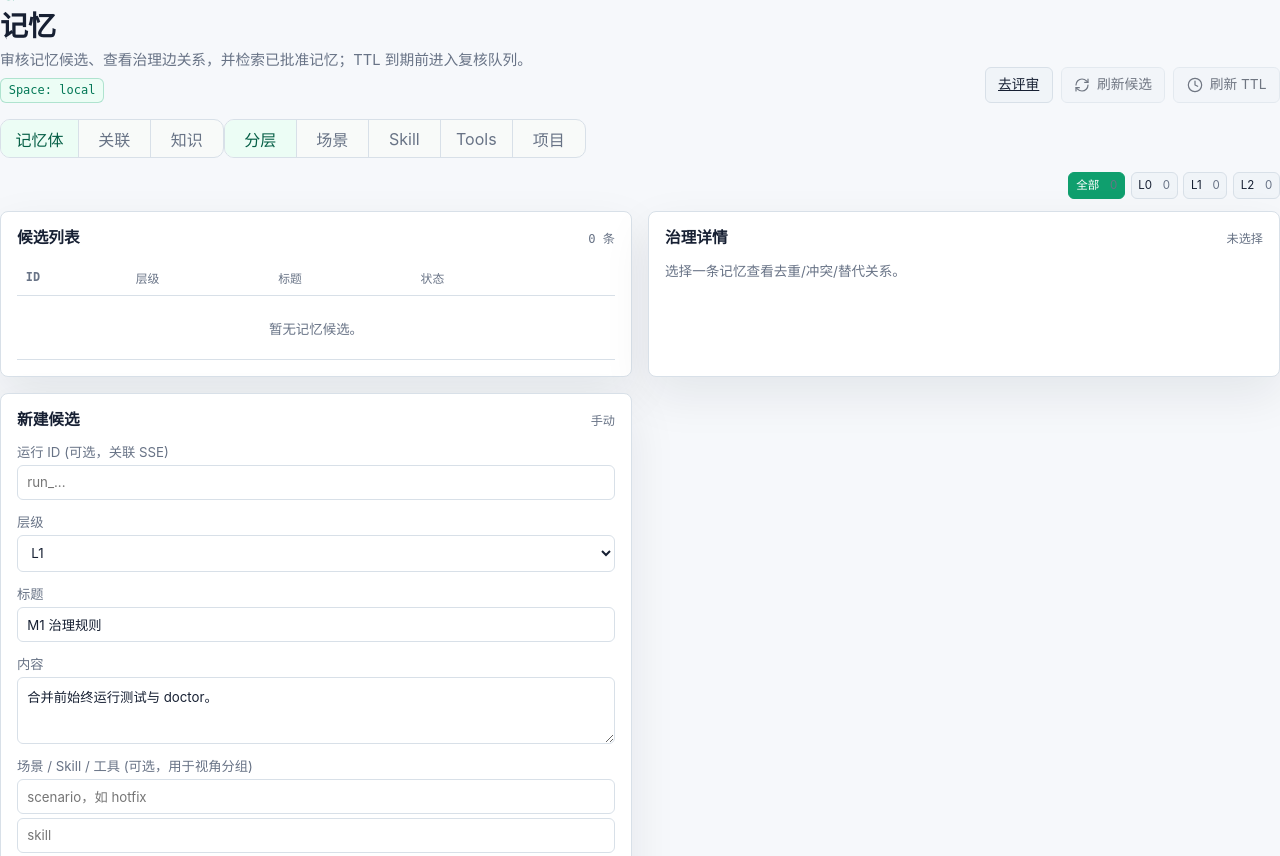
Test: MemoryPage › disables candidate submit until title and body are filled
Clear the field with test id "memory-candidate-title": (316, 624) [17,607,615,642]
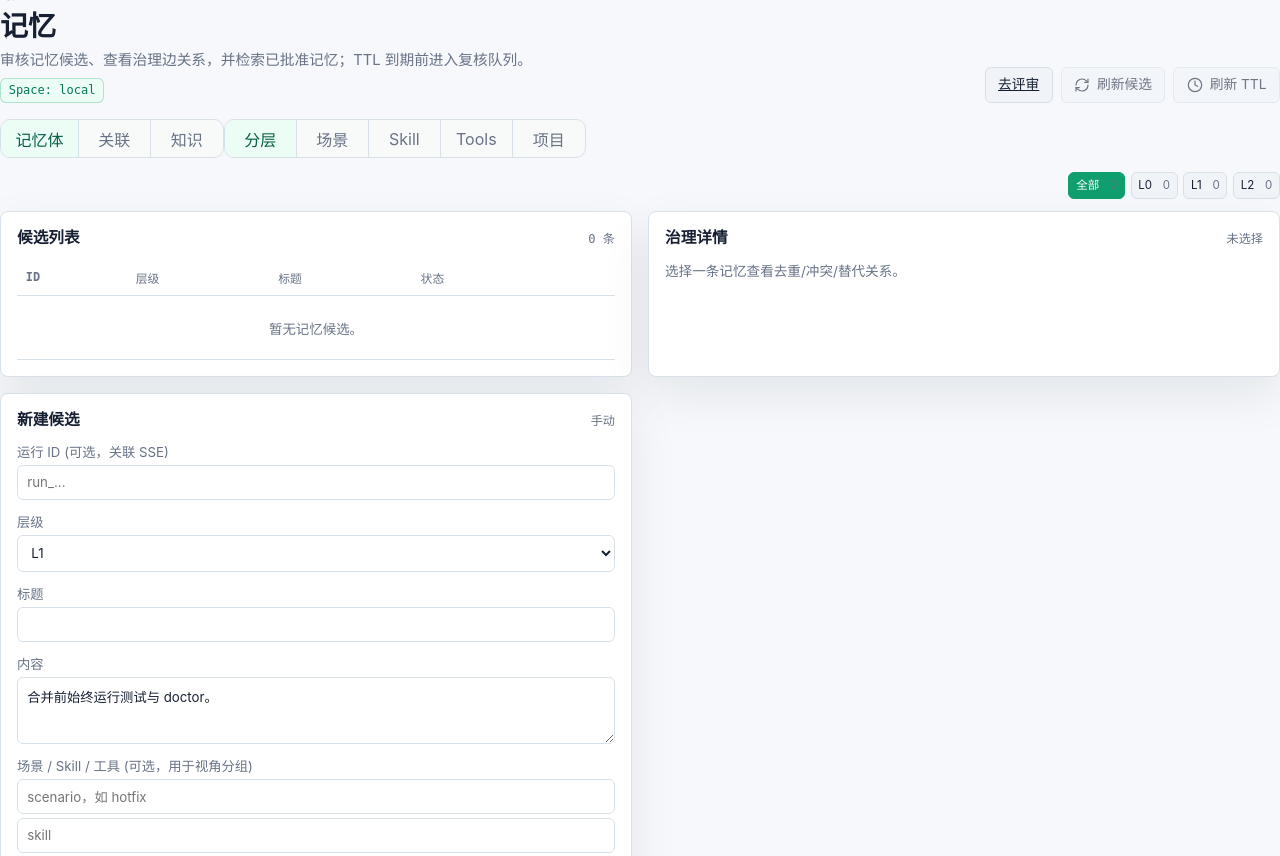
In the field with test id "memory-candidate-title": (316, 624) [17,607,615,642], type "有标题"
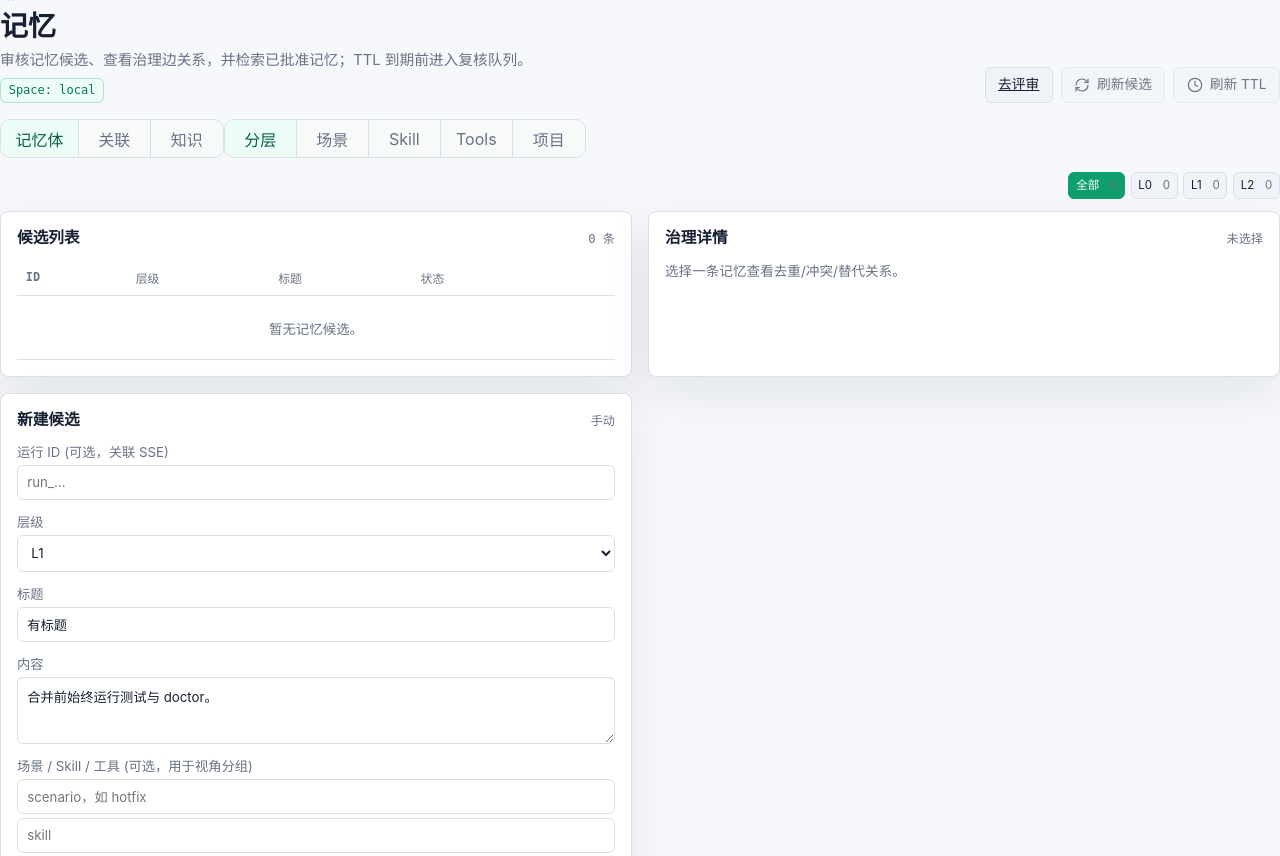
Clear the text box with test id "memory-candidate-body": (316, 711) [17,677,615,744]
(page scrolled)
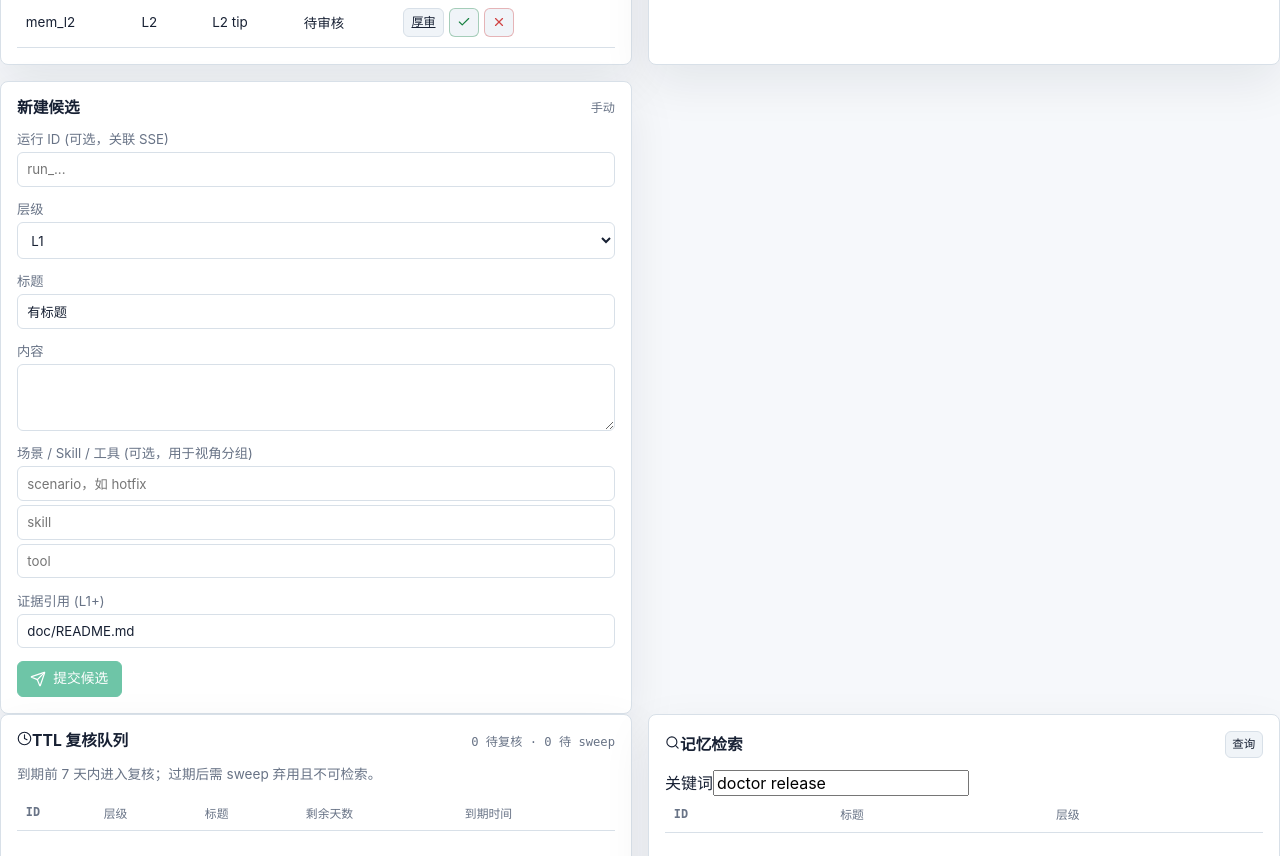
Now the button with test id "memory-candidate-submit" is disabled, box [17,661,122,697]
